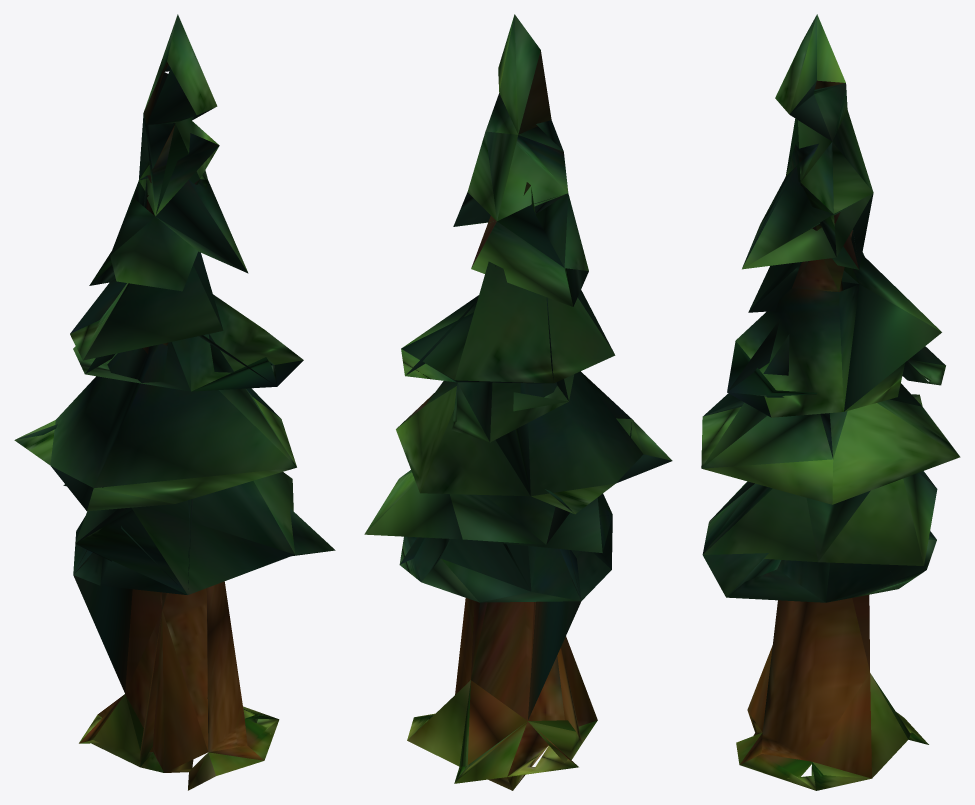
The model's file is pine.glb.
3 views of the same model, side by side, from view 1: azimuth 30°, elevation 25°; view 2: azimuth 150°, elevation 25°; view 3: azimuth 270°, elevation 25° (orthographic).
Visible parts, largest first — view 1: pine; view 2: pine; view 3: pine.
Boxes of the visible parts, bbox=[...] form: pine: bbox=[14, 14, 335, 790]; pine: bbox=[364, 14, 672, 790]; pine: bbox=[701, 14, 960, 790].
Size of the model in its own units: 0.2355 by 0.6992 by 0.2207.
1 material, 1 textured.
